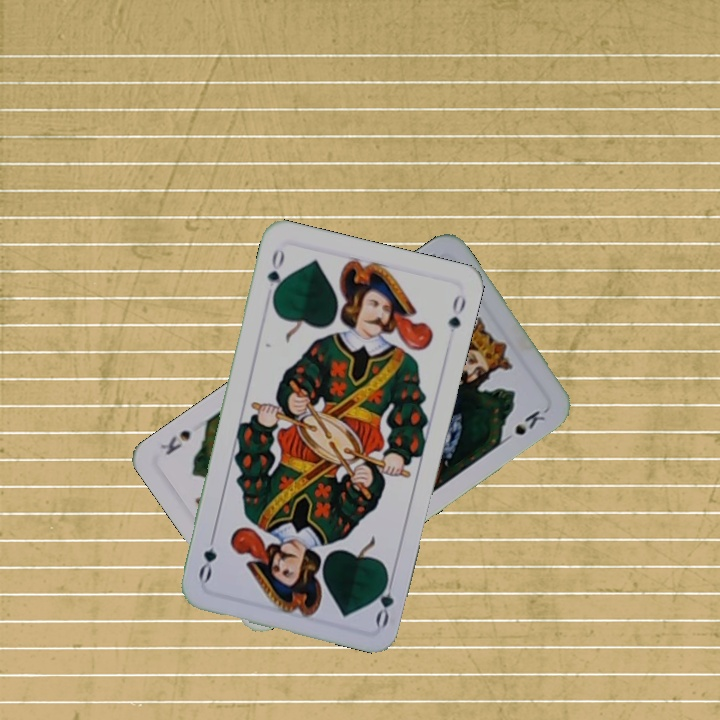GO: (370, 569, 398, 629), (263, 245, 288, 303)
